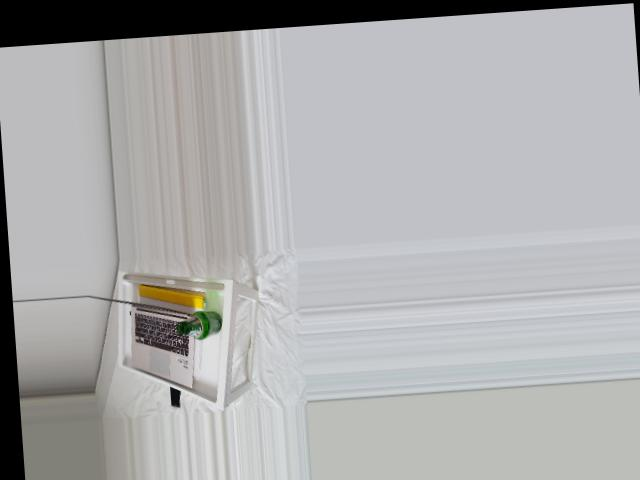beer: (176, 309, 223, 340)
